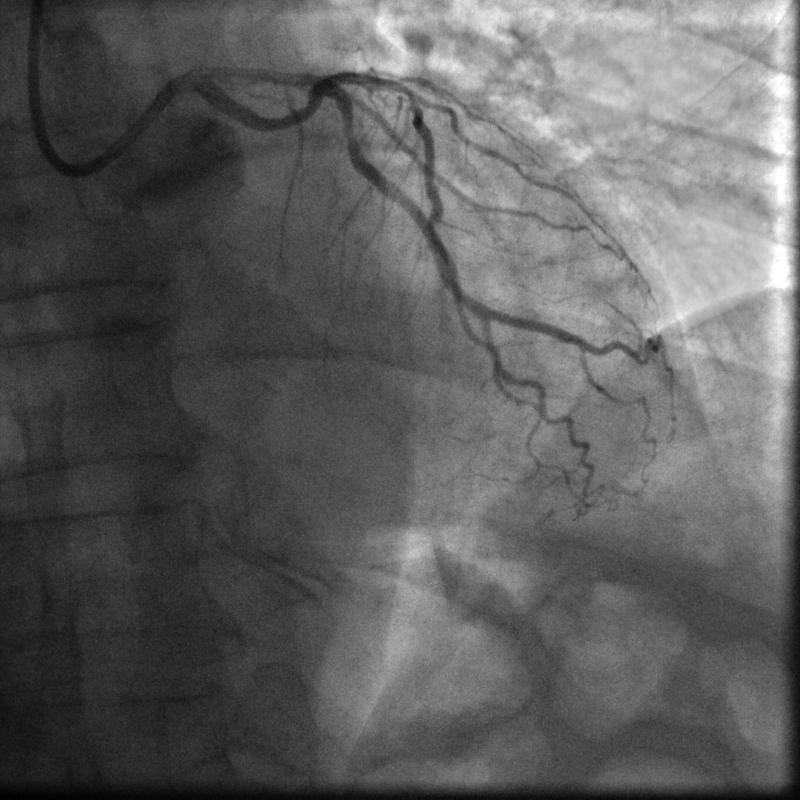Stenosis: (344, 126, 356, 144)
